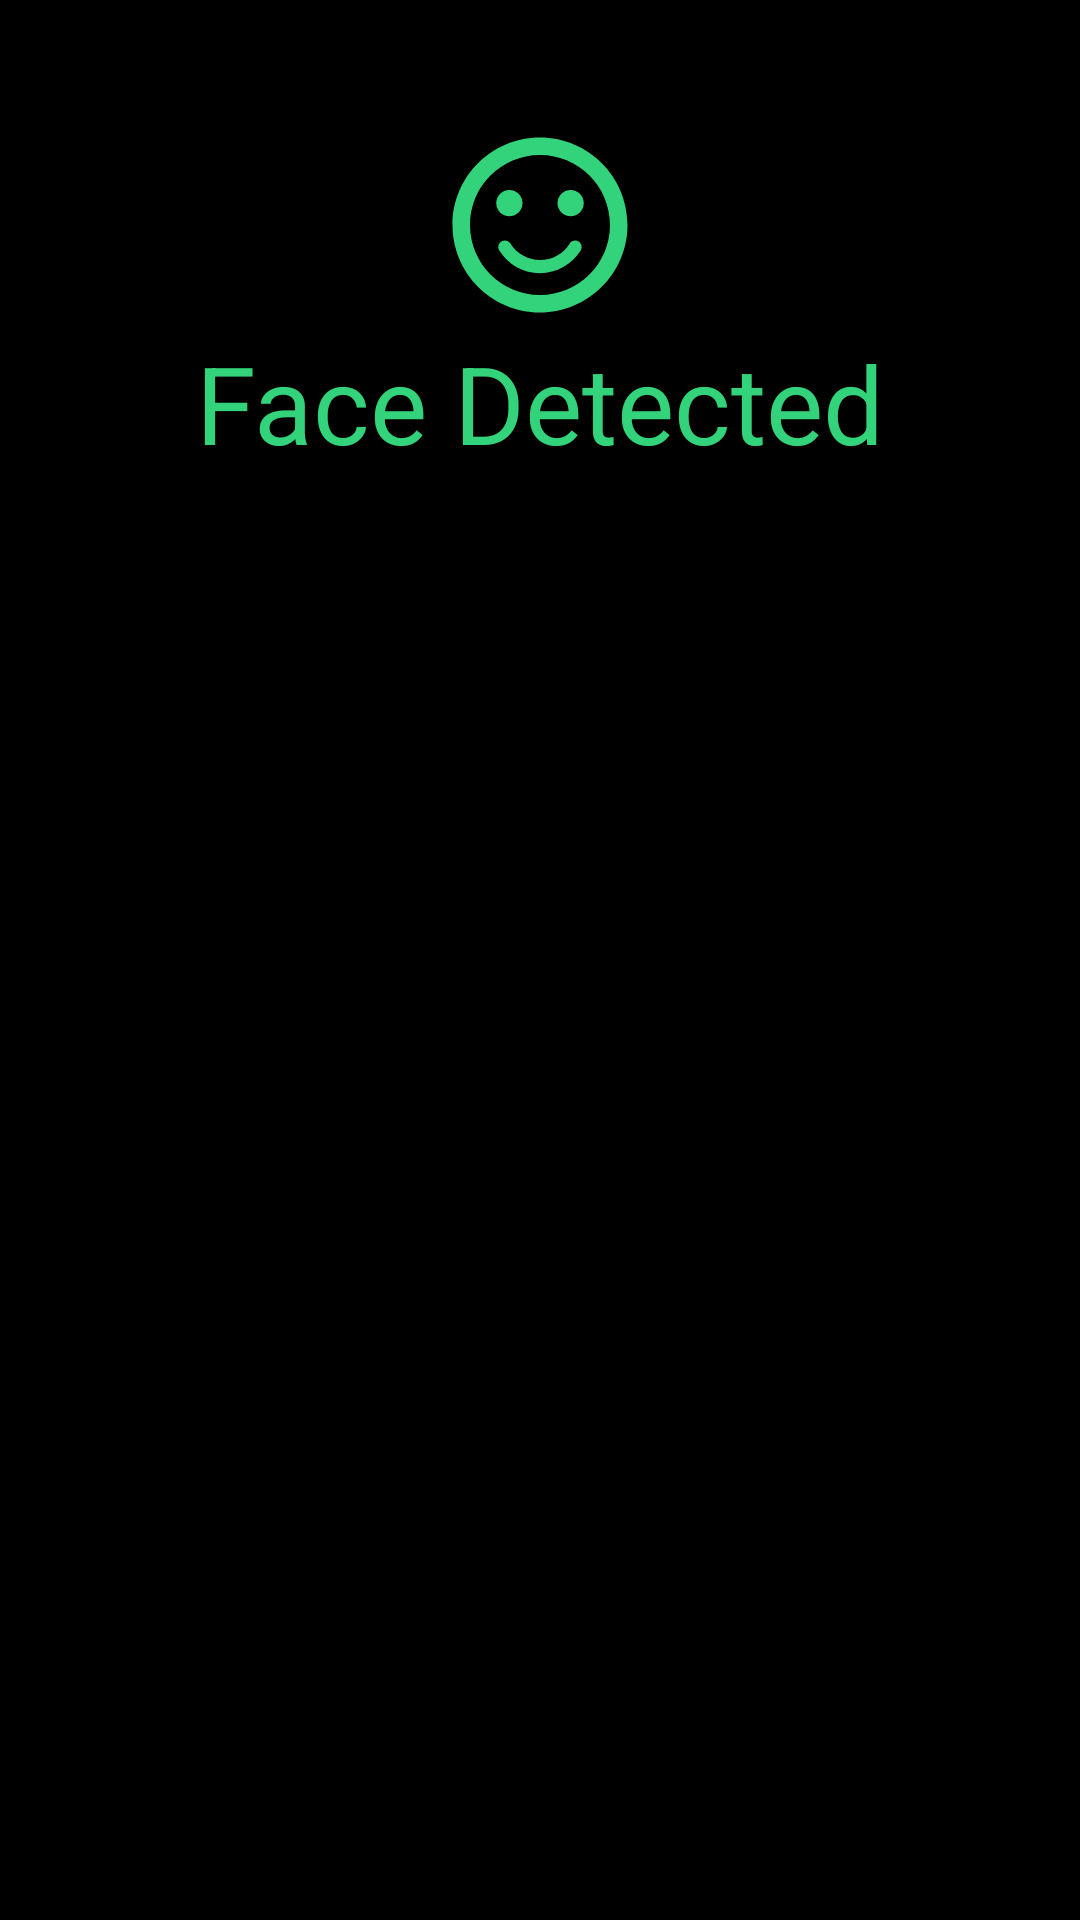

Point at icon controls on the screen. Image size 1080*1920, points as [x,y].
face recognition success: [540,225]
